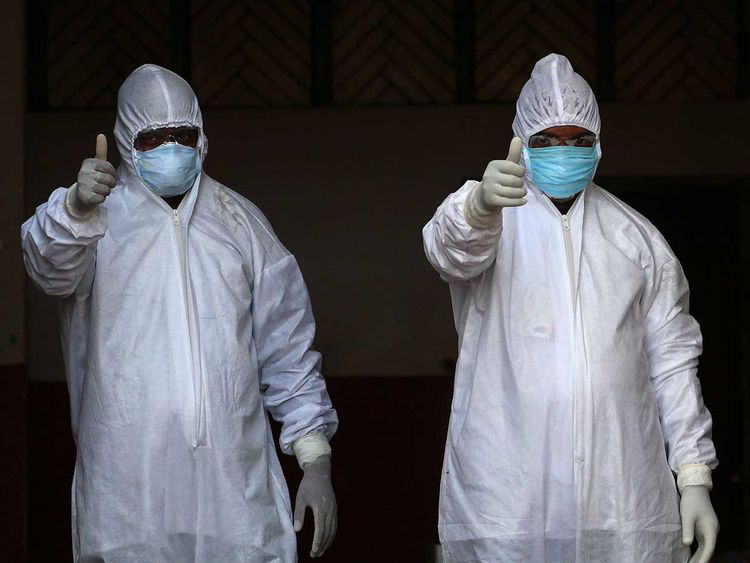Coverall: (26, 59, 325, 563), (440, 49, 711, 563)
Gloves: (279, 410, 351, 561), (461, 130, 530, 236), (664, 461, 725, 563), (59, 128, 122, 219)
with_mask: (528, 137, 596, 201), (136, 135, 201, 198)
